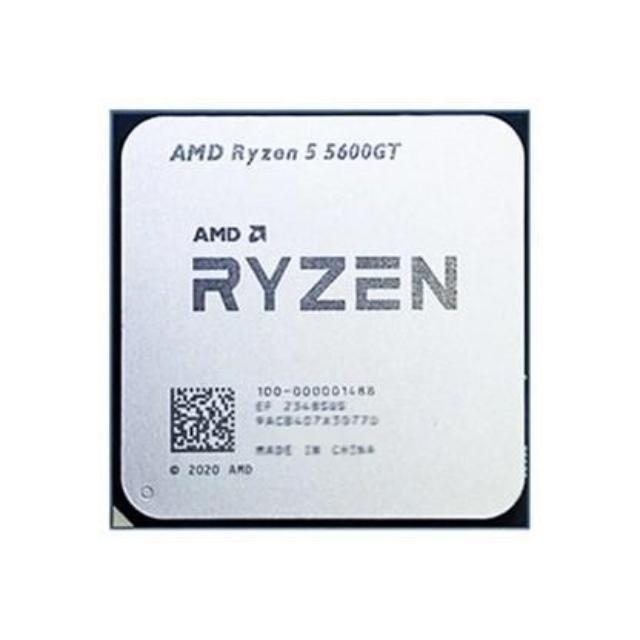CPU: (106, 109, 528, 534)
